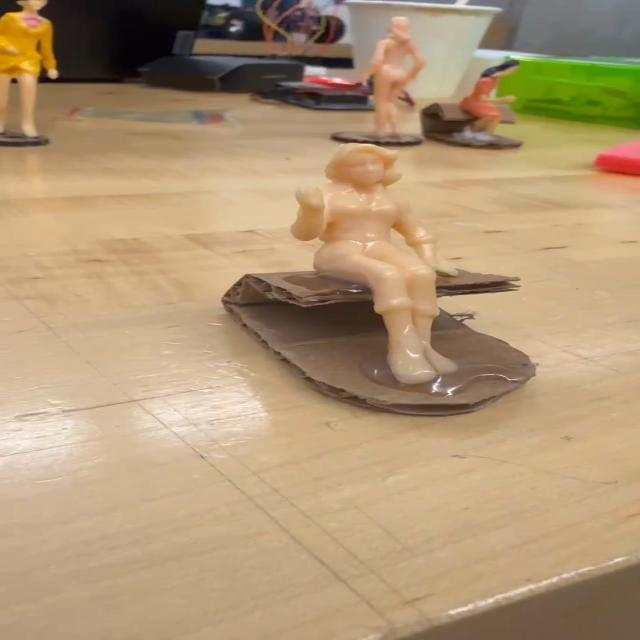Unauthorized: (276, 122, 484, 406)
